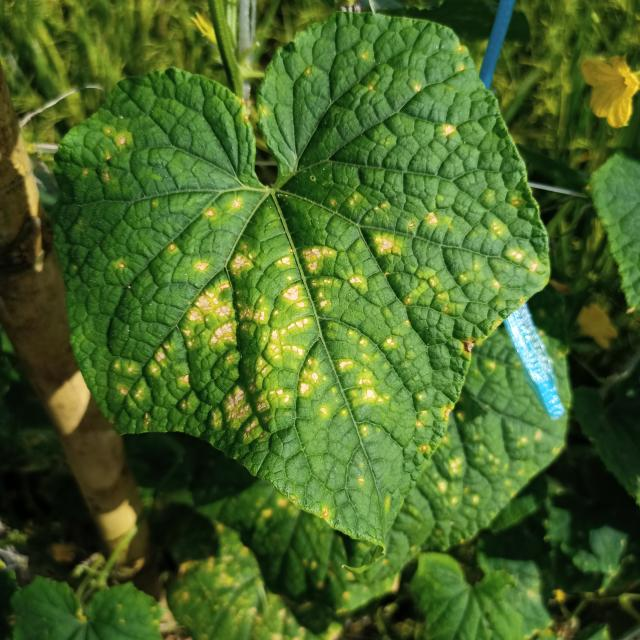disease_cucumber: (69, 42, 543, 493)
